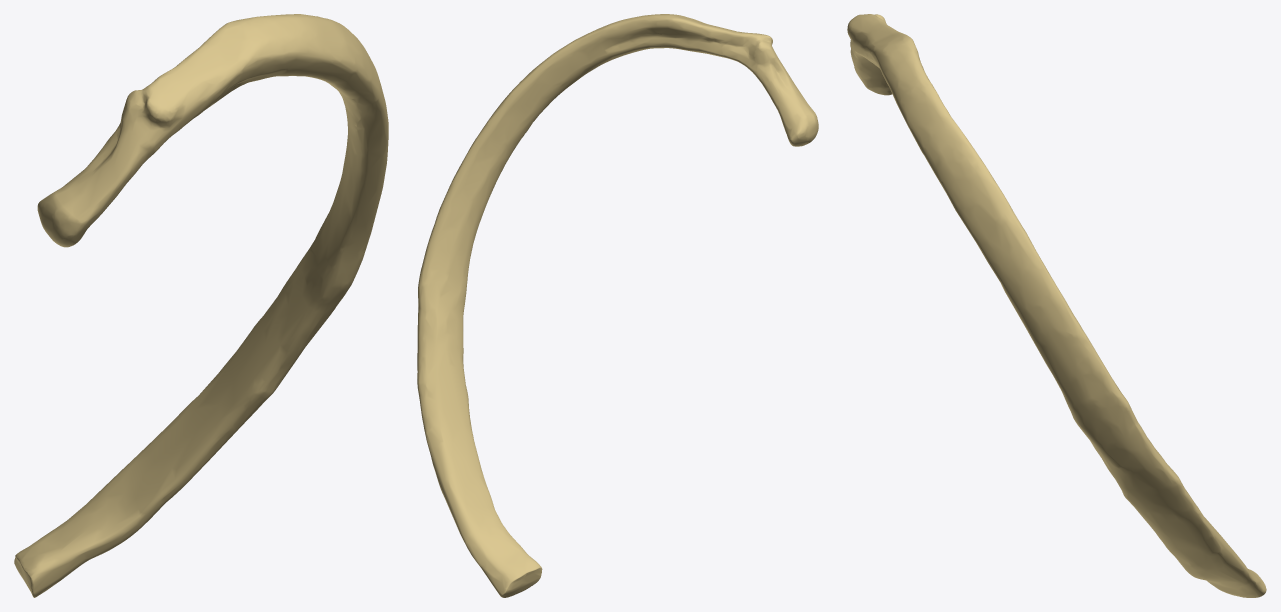
3 renders of one model, left to right at view 1: azimuth 30°, elevation 25°; view 2: azimuth 150°, elevation 25°; view 3: azimuth 270°, elevation 25°, orthographic. The views are drawn at different scales.
Visible parts, largest first — view 1: 左侧第四肋; view 2: 左侧第四肋; view 3: 左侧第四肋.
Part boxes in pixels (bbox=[...]): 左侧第四肋: bbox=[14, 14, 388, 597]; 左侧第四肋: bbox=[417, 14, 818, 597]; 左侧第四肋: bbox=[847, 14, 1266, 597].
Size of the model in its own units: 0.1615 by 0.2502 by 0.1725.
